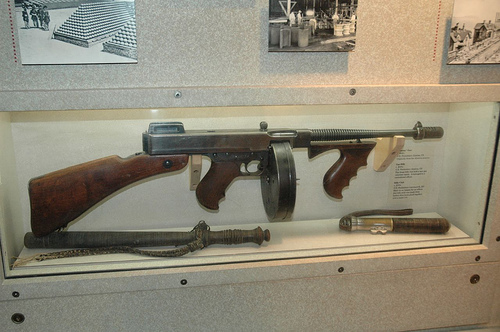rifle: (37, 125, 449, 238)
